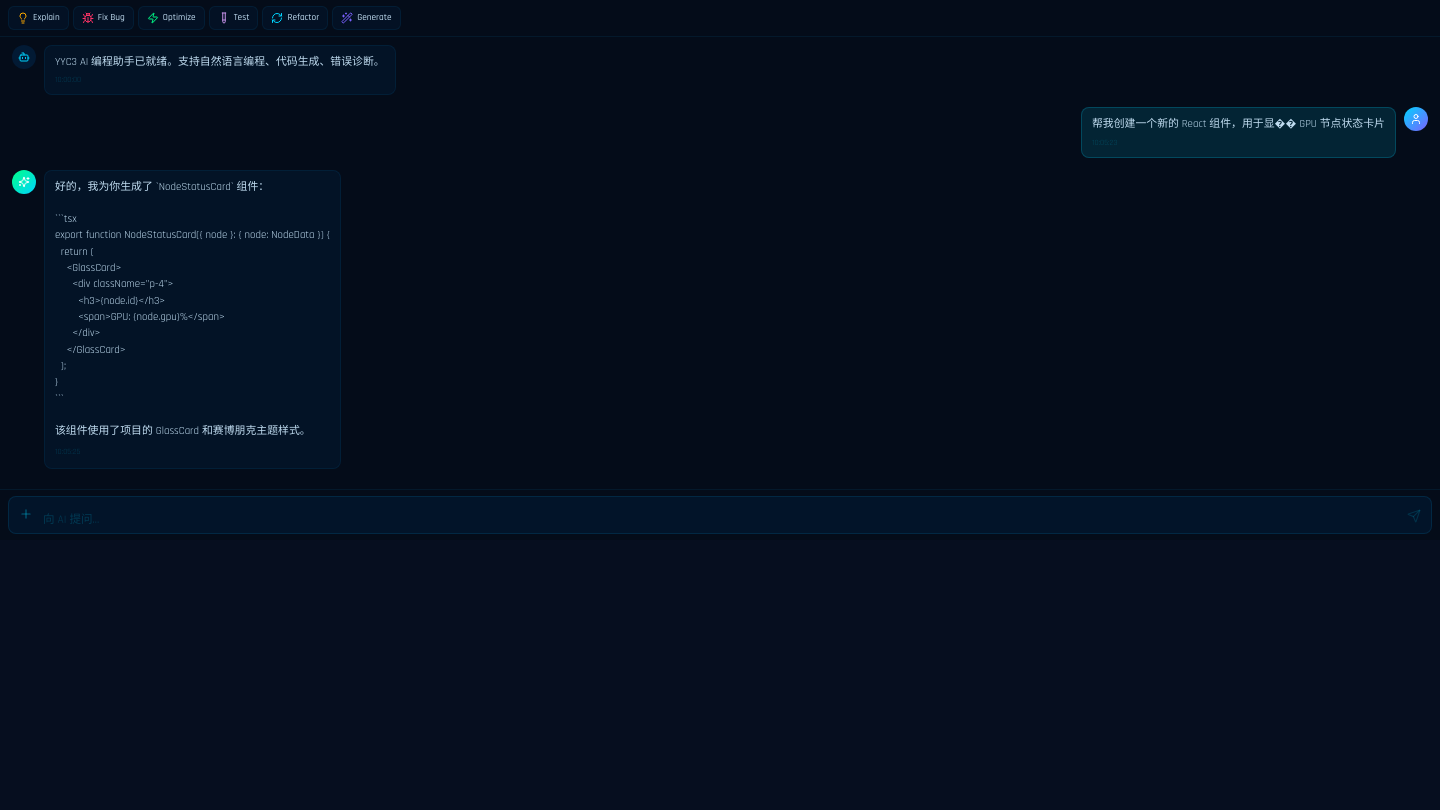
Test: AIChatPanel › 附件菜单 › 点击遮罩关闭菜单
Click the 7th button: {"x": 26, "y": 514} [13, 500, 39, 526]
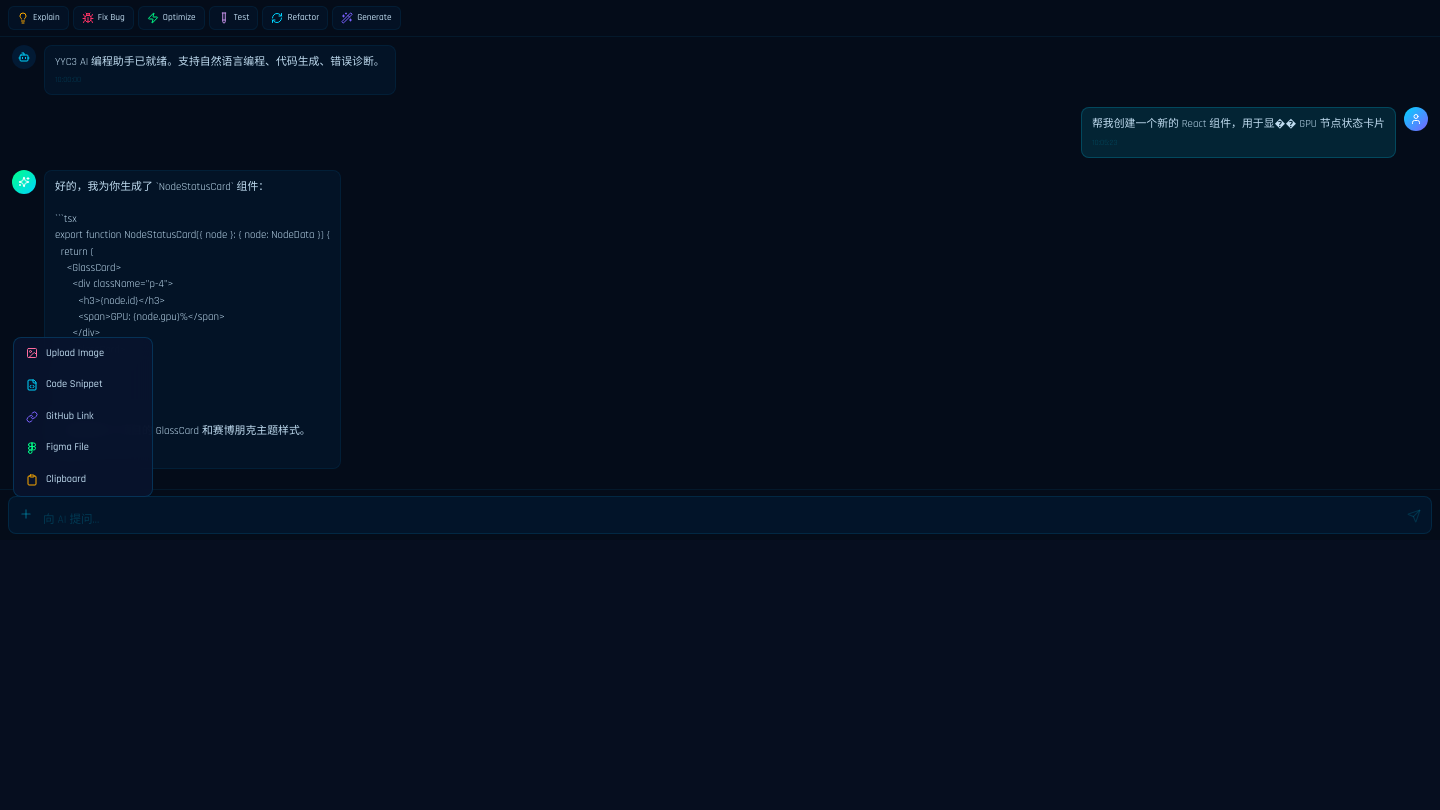
Click the element with class "inset-0": {"x": 720, "y": 405} [0, 0, 1439, 809]
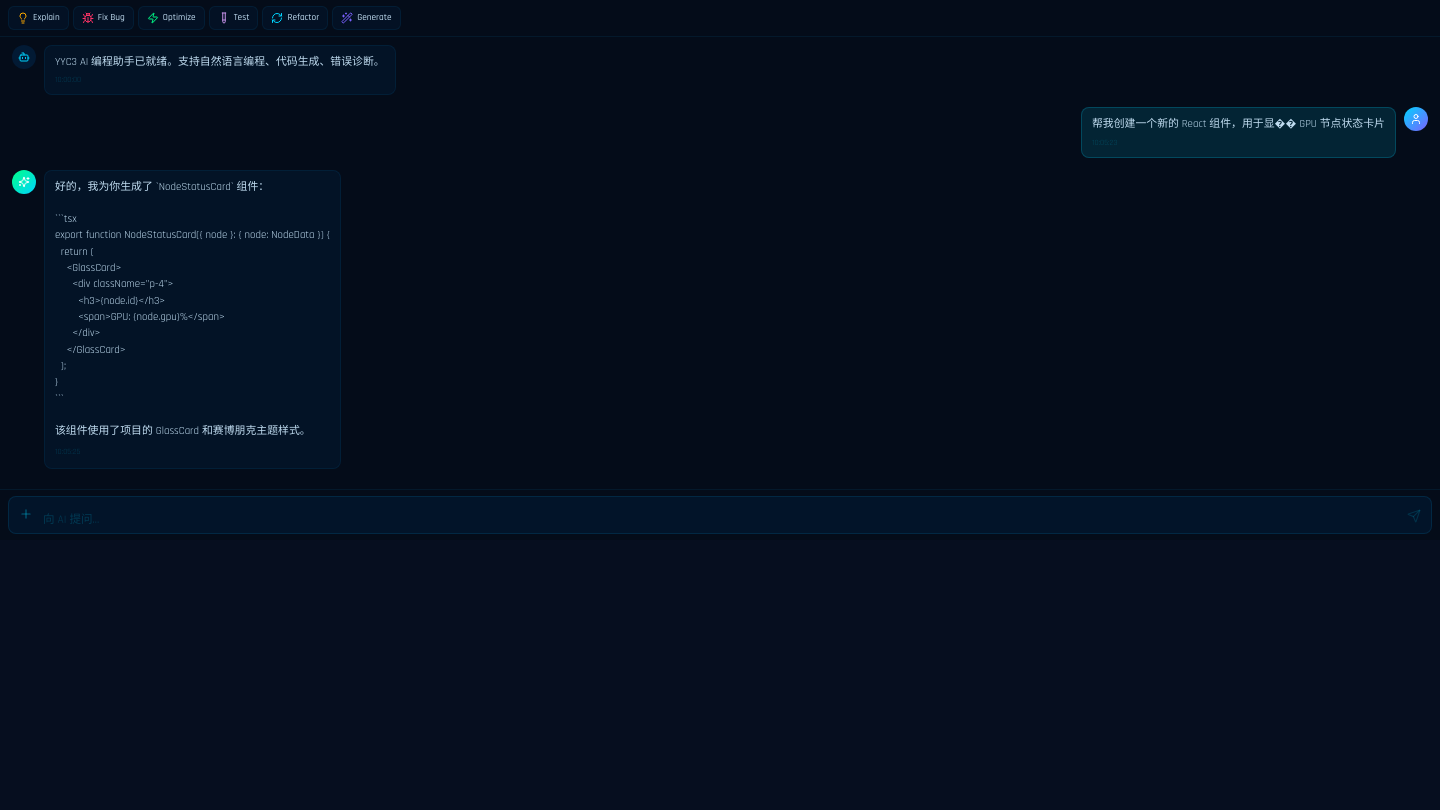
Check: the button "Upload Image" is gone
